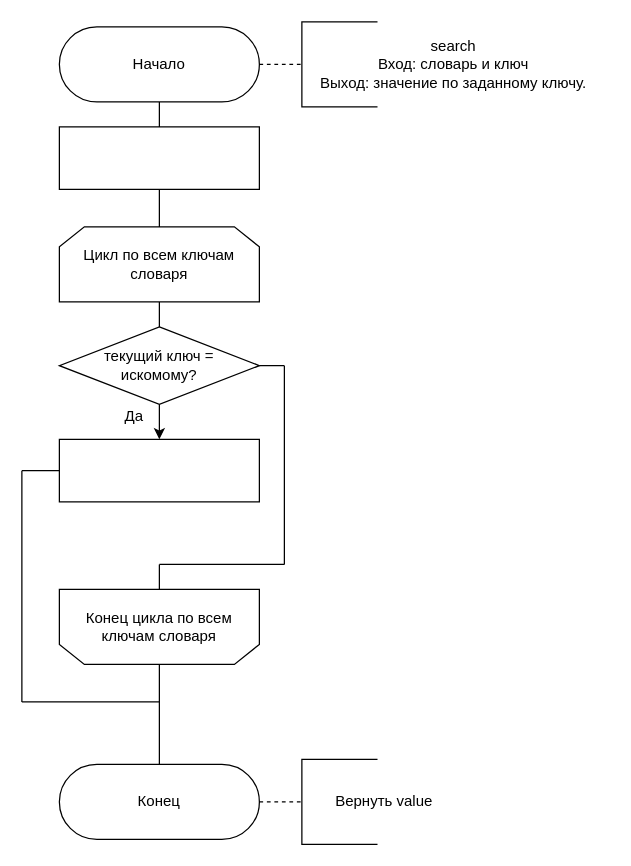
Image size: 631x866. Some labels were removed from this diagram. The shapes that lost their labels are listed below. From the top down, each one's box as (x1, y1, x2, y2) in pixels, then its label:
(58, 126, 259, 189): Инициализировать value пустым значением
(58, 438, 259, 502): Присвоить в value значение по текущему ключу и прервать цикл
